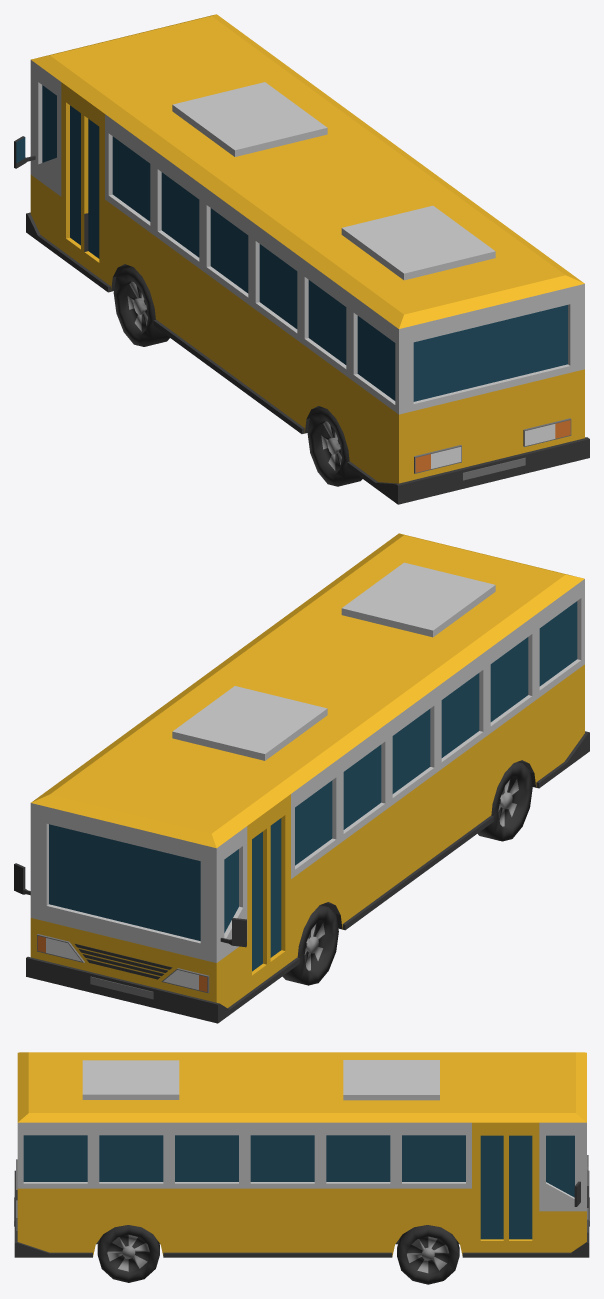
Rendered from bus_yellow.glb.
The picture shows the model from 3 angles, top to bottom: view 1: azimuth 30°, elevation 25°; view 2: azimuth 150°, elevation 25°; view 3: azimuth 270°, elevation 25°; orthographic projection. The views are drawn at different scales.
Visible parts, largest first — view 1: bus_yellow, bus_yellow left wheel, bus_yellow rear wheel; view 2: bus_yellow, bus_yellow left wheel, bus_yellow rear wheel; view 3: bus_yellow, bus_yellow right wheel, bus_yellow rear wheel.
Boxes of the visible parts, x1,y1,x2,y2 form: bus_yellow: (14,14,589,504); bus_yellow left wheel: (113,266,169,346); bus_yellow rear wheel: (307,407,362,486); bus_yellow: (14,533,589,1023); bus_yellow left wheel: (282,905,338,985); bus_yellow rear wheel: (477,762,532,841); bus_yellow: (14,1052,589,1257); bus_yellow right wheel: (397,1225,459,1284); bus_yellow rear wheel: (97,1225,159,1282).
Size of the model in its own units: 0.519 by 0.4767 by 1.44.
